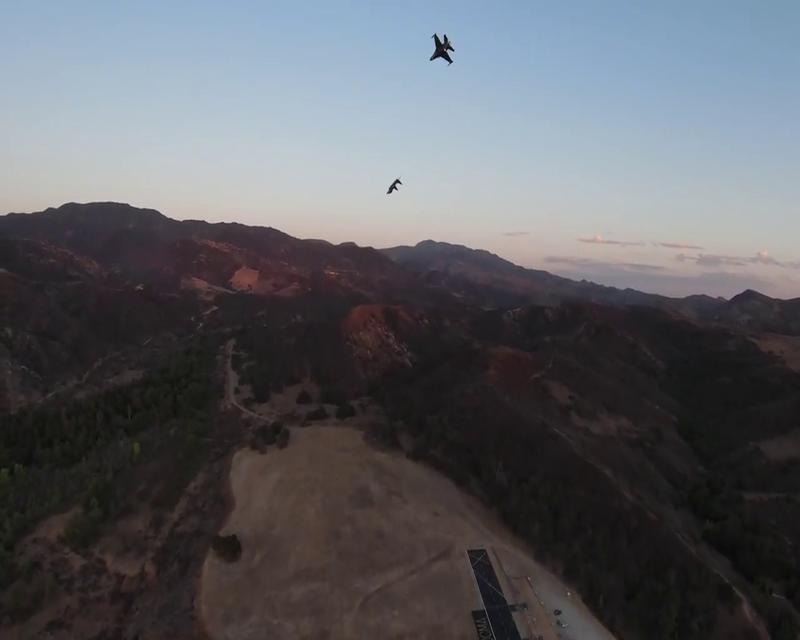UAV: (430, 32, 456, 67)
